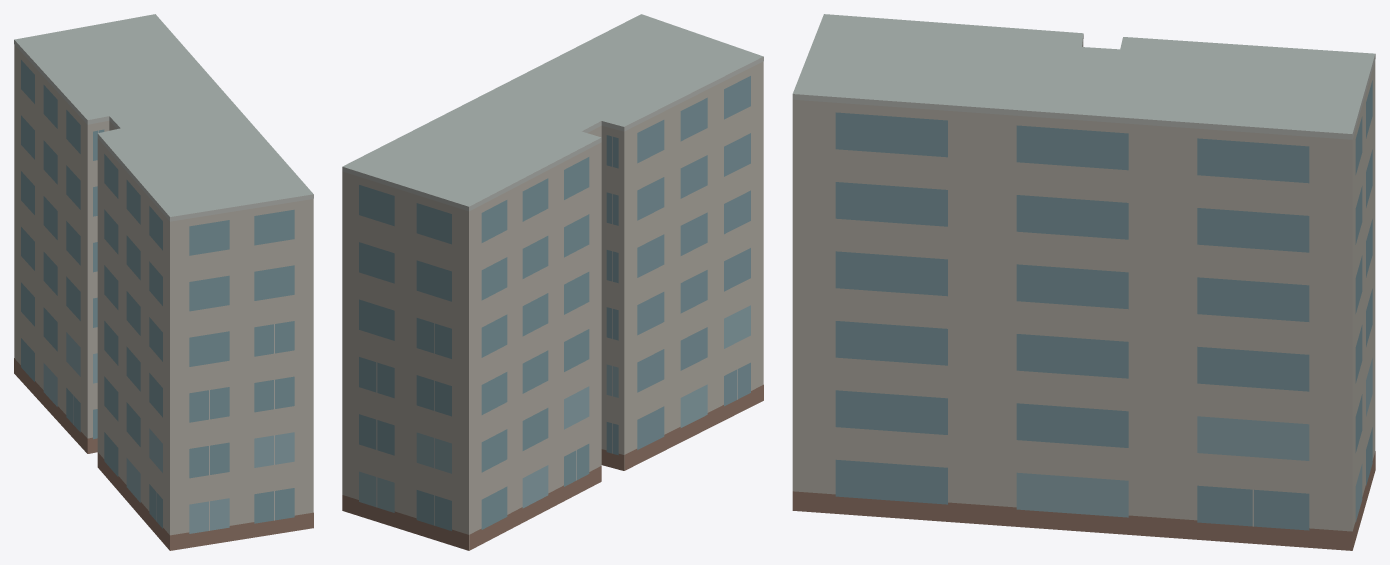
File: survey-upis-33035996.glb
3 views of the same model, side by side, from view 1: azimuth 30°, elevation 25°; view 2: azimuth 150°, elevation 25°; view 3: azimuth 270°, elevation 25° (orthographic). The views are drawn at different scales.
Parts seen in each view (by area): view 1: survey-upis-33035996.tmp; view 2: survey-upis-33035996.tmp; view 3: survey-upis-33035996.tmp.
Boxes of the visible parts, x1,y1,x2,y2 form: survey-upis-33035996.tmp: (14, 14, 313, 550); survey-upis-33035996.tmp: (342, 14, 763, 550); survey-upis-33035996.tmp: (792, 14, 1375, 550).
Bounding box in the file's own units: 11.08 × 17.9 × 22.7.
